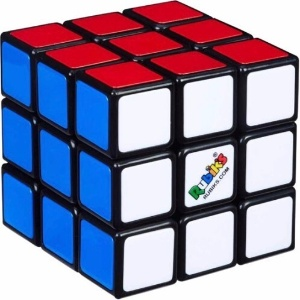cube: (1, 1, 300, 299)
